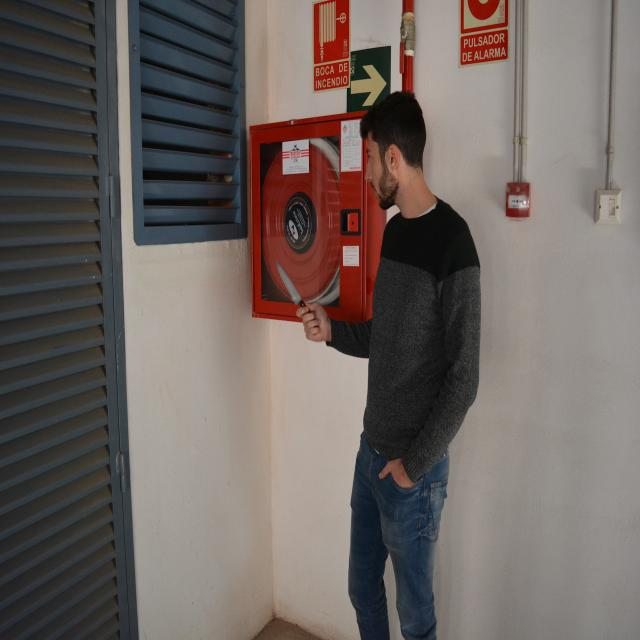knife: (275, 259, 306, 314)
